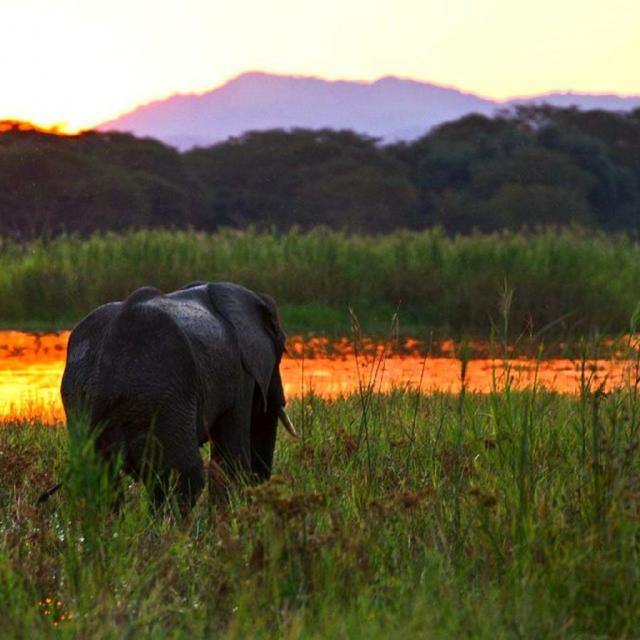Elephant: (58, 276, 299, 519)
